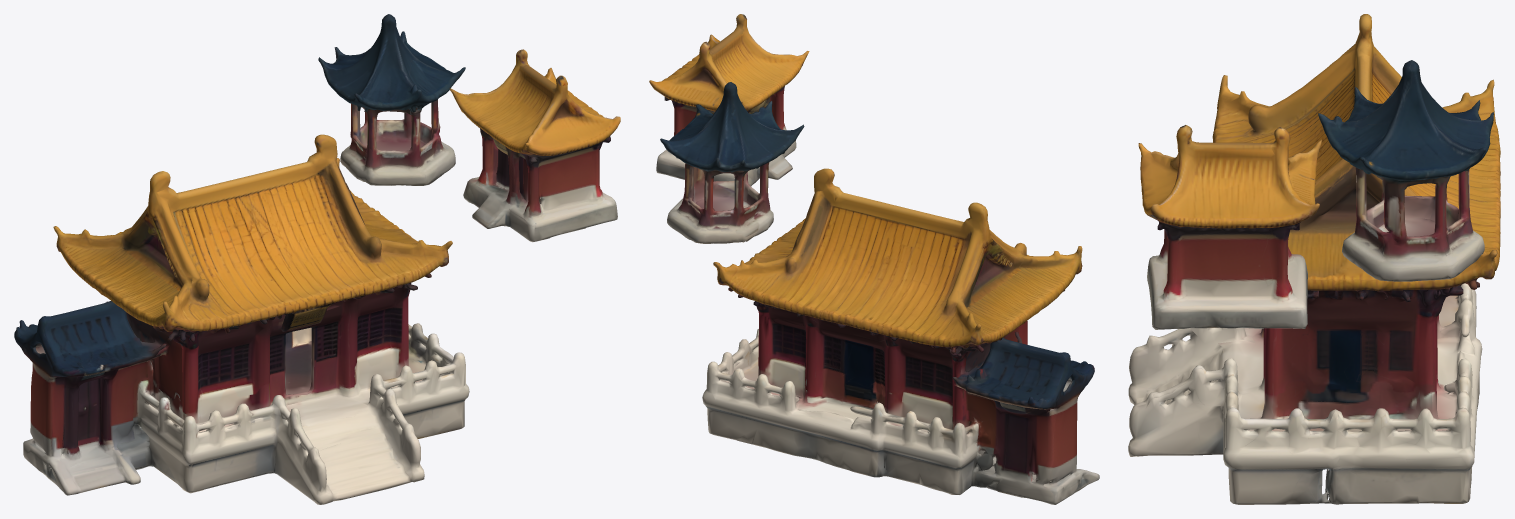
The picture shows the model from 3 angles, left to right: view 1: azimuth 30°, elevation 25°; view 2: azimuth 150°, elevation 25°; view 3: azimuth 270°, elevation 25°; orthographic projection. The views are drawn at different scales.
Visible parts, largest first — view 1: material.001; view 2: material.001; view 3: material.001.
Part boxes in pixels (x1=…): material.001: x1=14, y1=14, x2=620, y2=504; material.001: x1=649, y1=14, x2=1099, y2=504; material.001: x1=1128, y1=14, x2=1500, y2=504.
Bounding box in the file's own units: 0.9479 × 0.683 × 0.5114.
Materials: 1 (1 with a texture image).
